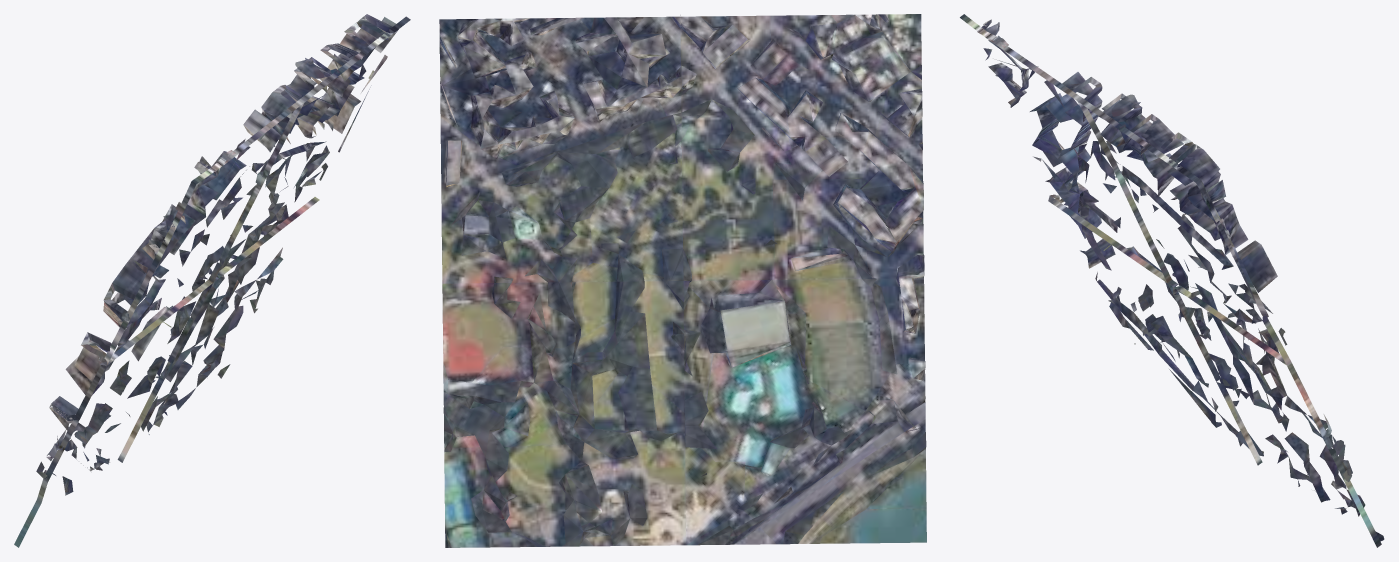
3 renders of one model, left to right at view 1: azimuth 30°, elevation 25°; view 2: azimuth 150°, elevation 25°; view 3: azimuth 270°, elevation 25°, orthographic. The views are drawn at different scales.
Size of the model in its own units: 609 by 575 by 516.
2 materials, 2 textured.
